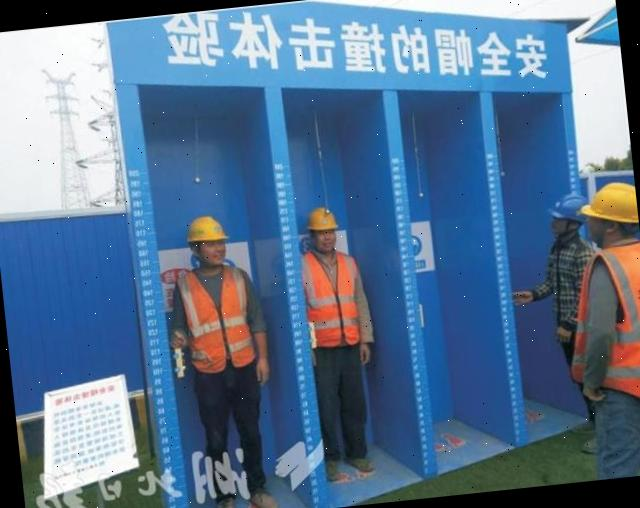helmet: (573, 180, 638, 230), (544, 191, 592, 225), (183, 214, 230, 248), (304, 205, 338, 234)
no_wear: (546, 240, 590, 334)
wear: (174, 264, 258, 376), (580, 249, 640, 395), (296, 249, 362, 348)
